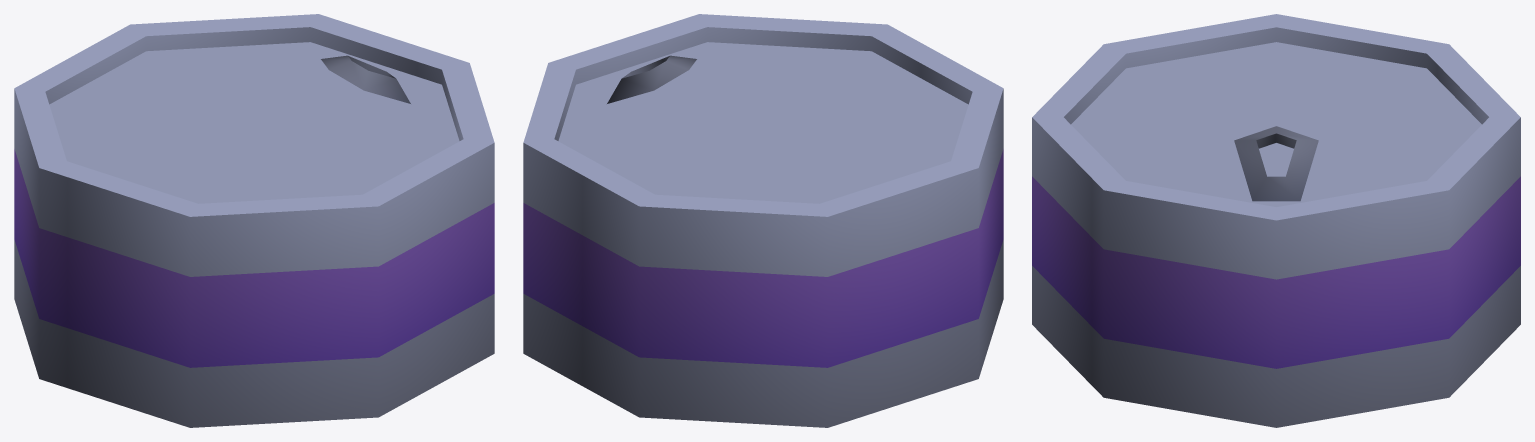
Rendered from can-small.glb.
3 views of the same model, side by side, from view 1: azimuth 30°, elevation 25°; view 2: azimuth 150°, elevation 25°; view 3: azimuth 270°, elevation 25° (orthographic).
Visible parts, largest first — view 1: can-small, Group; view 2: can-small, Group; view 3: can-small, Group.
Part boxes in pixels (bbox=[...]): can-small: bbox=[14, 14, 494, 427]; Group: bbox=[321, 55, 410, 103]; can-small: bbox=[523, 14, 1003, 427]; Group: bbox=[607, 55, 696, 103]; can-small: bbox=[1032, 14, 1520, 427]; Group: bbox=[1234, 126, 1318, 201].
Bounding box in the file's own units: 0.3 × 0.1611 × 0.3.
